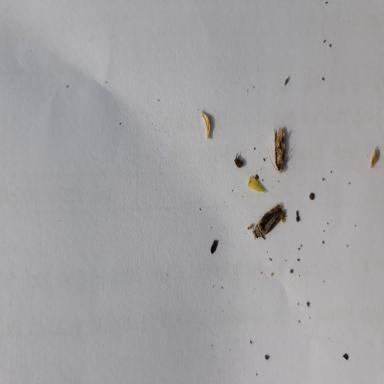pbw: (252, 202, 288, 240), (266, 127, 293, 173)
